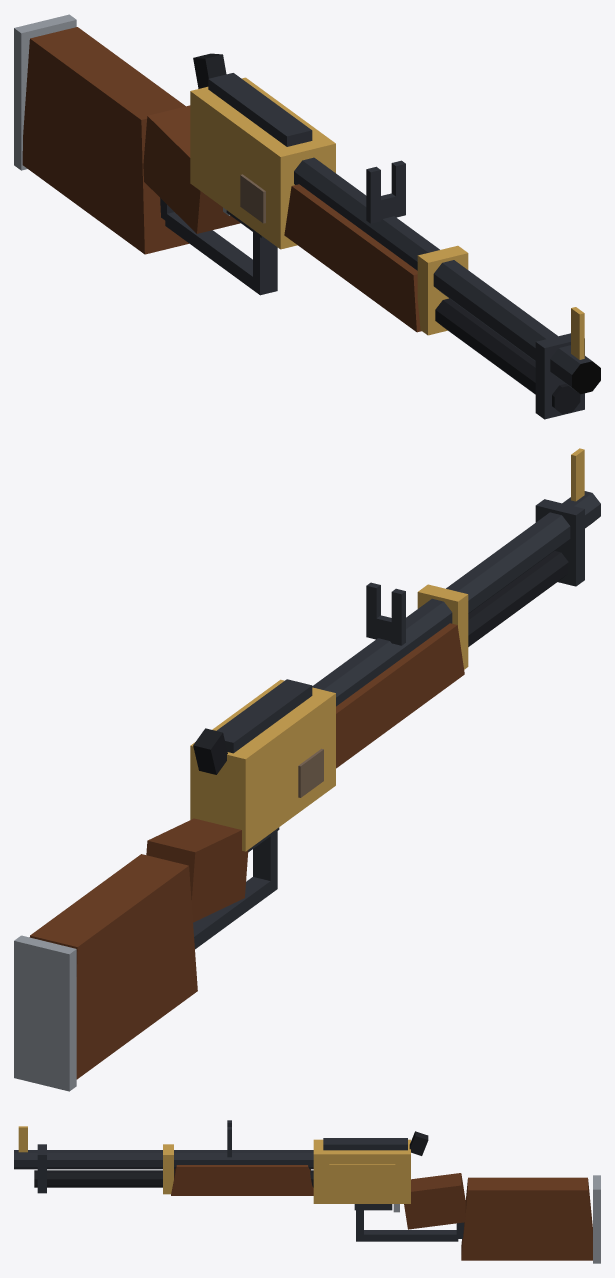
Rendered from rifle.glb.
3 renders of one model, top to bottom at view 1: azimuth 30°, elevation 25°; view 2: azimuth 150°, elevation 25°; view 3: azimuth 270°, elevation 25°, orthographic. The views are drawn at different scales.
Parts seen in each view (by area): view 1: rifle_body; view 2: rifle_body; view 3: rifle_body.
Part boxes in pixels (x1,y1,x2,y2): rifle_body: (14, 14, 600, 419); rifle_body: (14, 448, 600, 1091); rifle_body: (14, 1120, 600, 1263).
Size of the model in its own units: 0.15 by 0.5781 by 2.34.
1 material, 1 textured.
